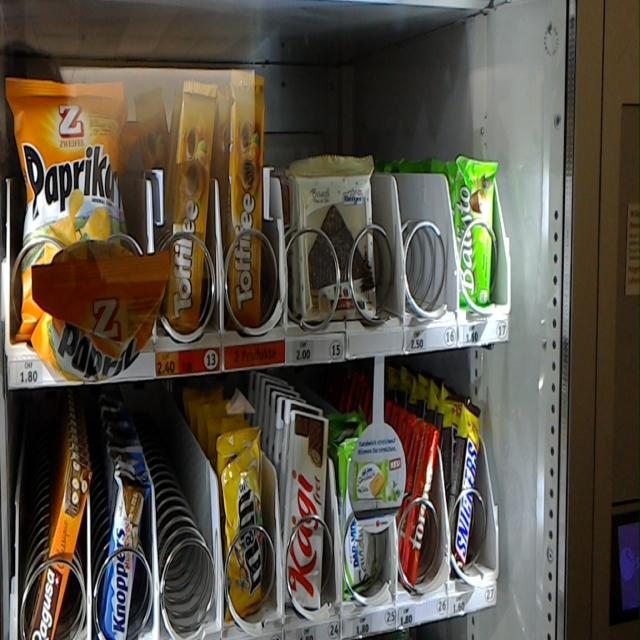balisto_muesli__37g__5000159418546: (452, 154, 492, 308)
berger_bruensli____: (295, 160, 377, 322)
darwida_sandwich____7610032065170: (337, 438, 388, 600)
kagi___50__7610046000259: (281, 409, 328, 615)
knoppers_riegel____4035800488808: (99, 474, 146, 640)
mnms_gelb__45__40111445: (222, 448, 265, 616)
ragusa___50__76401121: (28, 456, 89, 639)
snickers___50__5000159461122: (448, 400, 480, 577)
toffifee___33__4014400924275: (169, 81, 212, 328), (227, 66, 266, 326)
torino___46__76415272: (403, 424, 439, 590)
zweifel_paprika__90__7610095013002: (7, 75, 124, 319)
